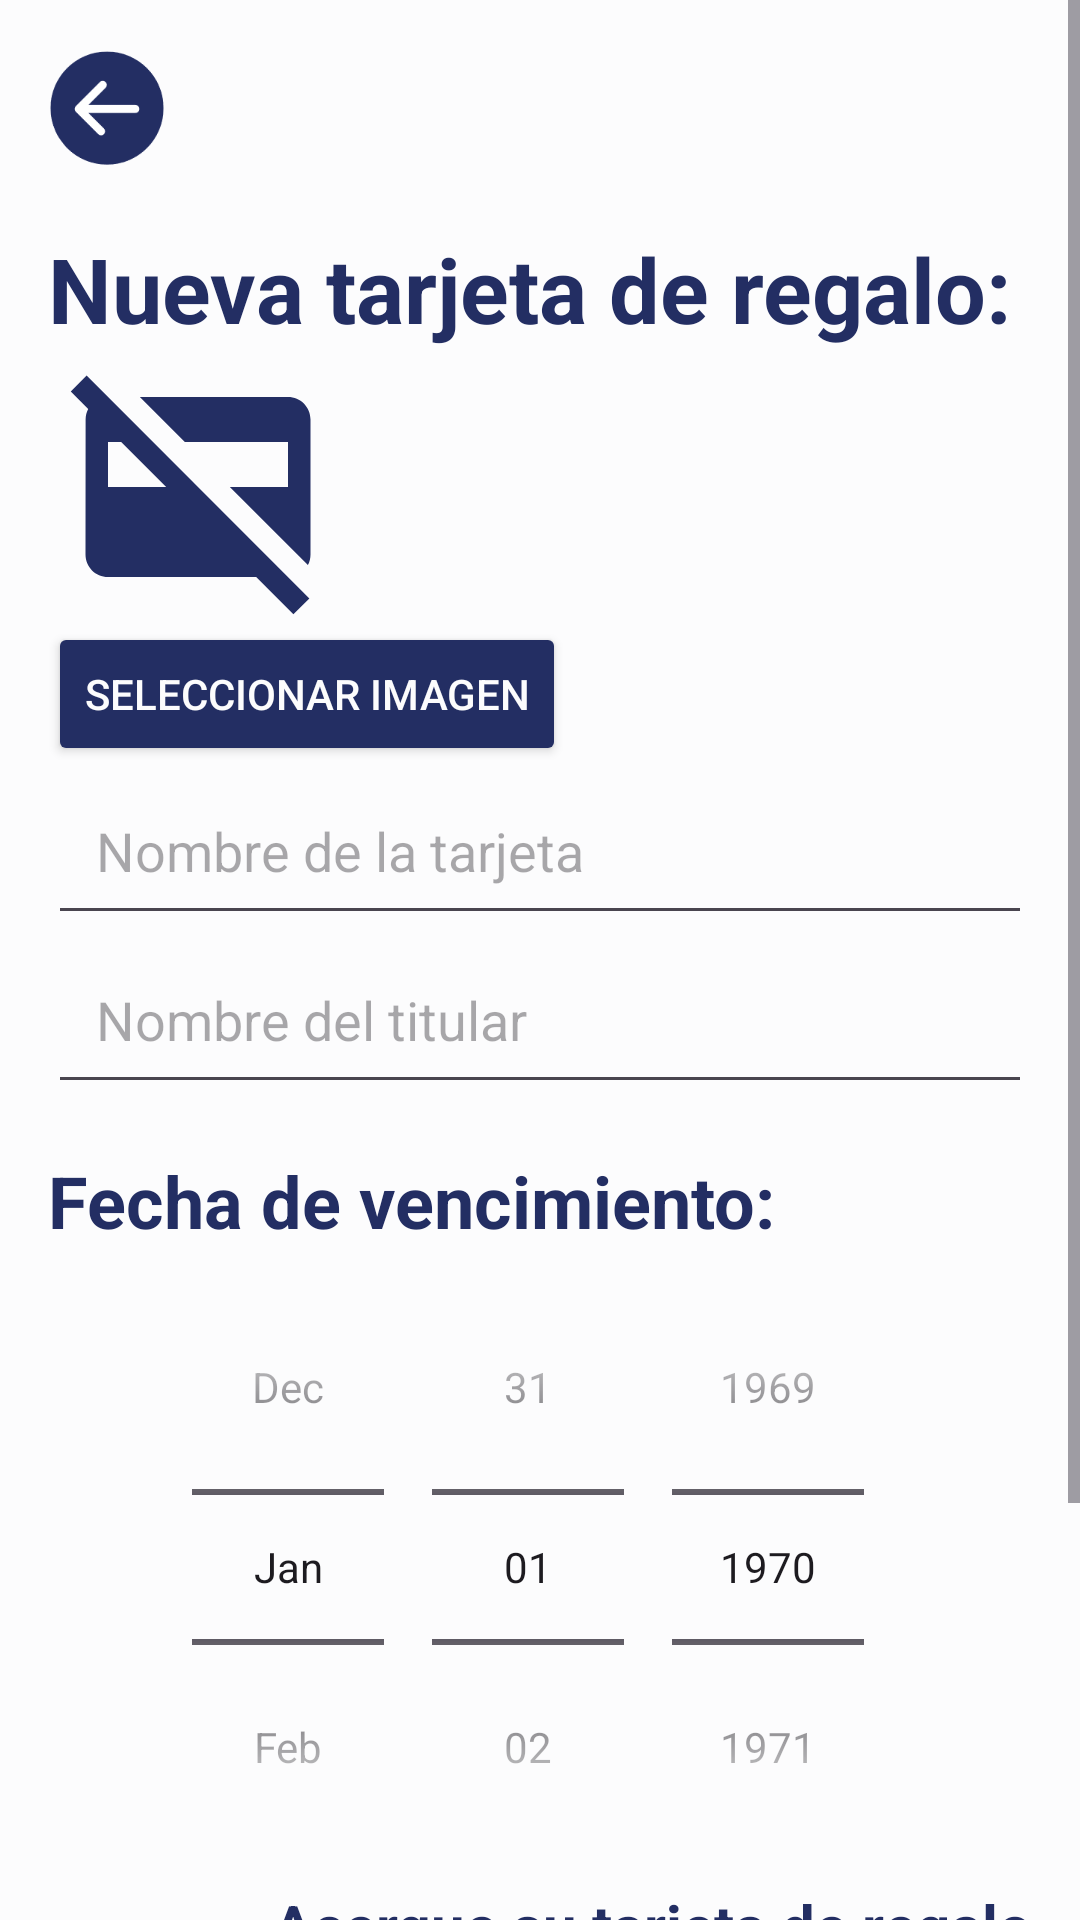

Where icons sit on this 1080×1920 app screen, as [left=x1, top=y1, right=x2, bottom=y2]:
credit card off: [left=71, top=375, right=311, bottom=614]
goback: [left=50, top=51, right=164, bottom=165]
